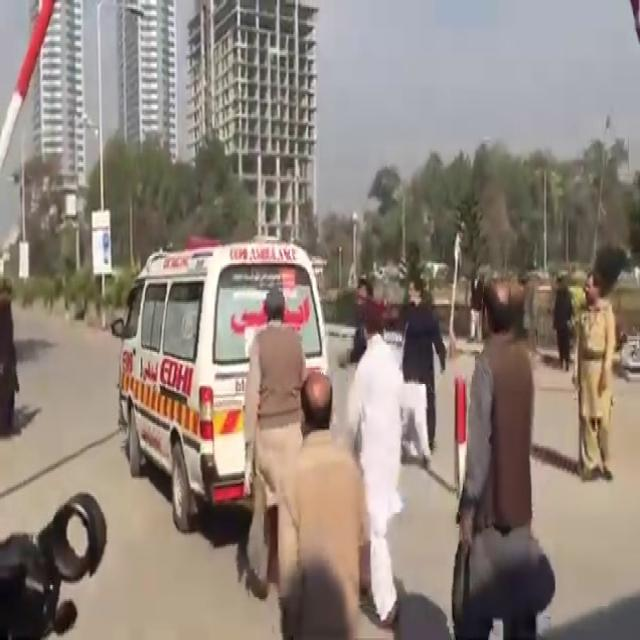ambulance: (106, 228, 362, 469)
